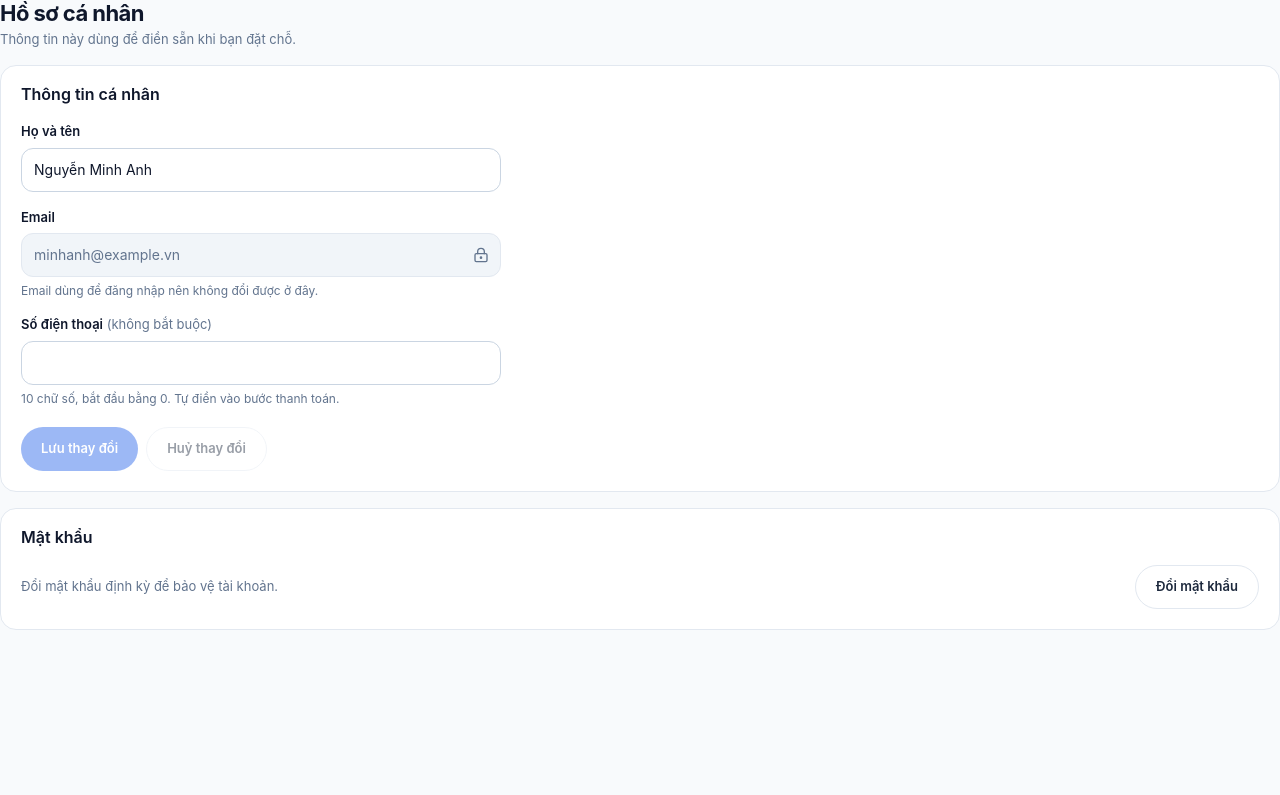
Test: ProfileView — đổi mật khẩu › thành công: gọi API, đóng form và báo các thiết bị khác đã đăng xuất
Click the button "Đổi mật khẩu".
click(1197, 586)  # box x1=1135 y1=564 x2=1259 y2=608
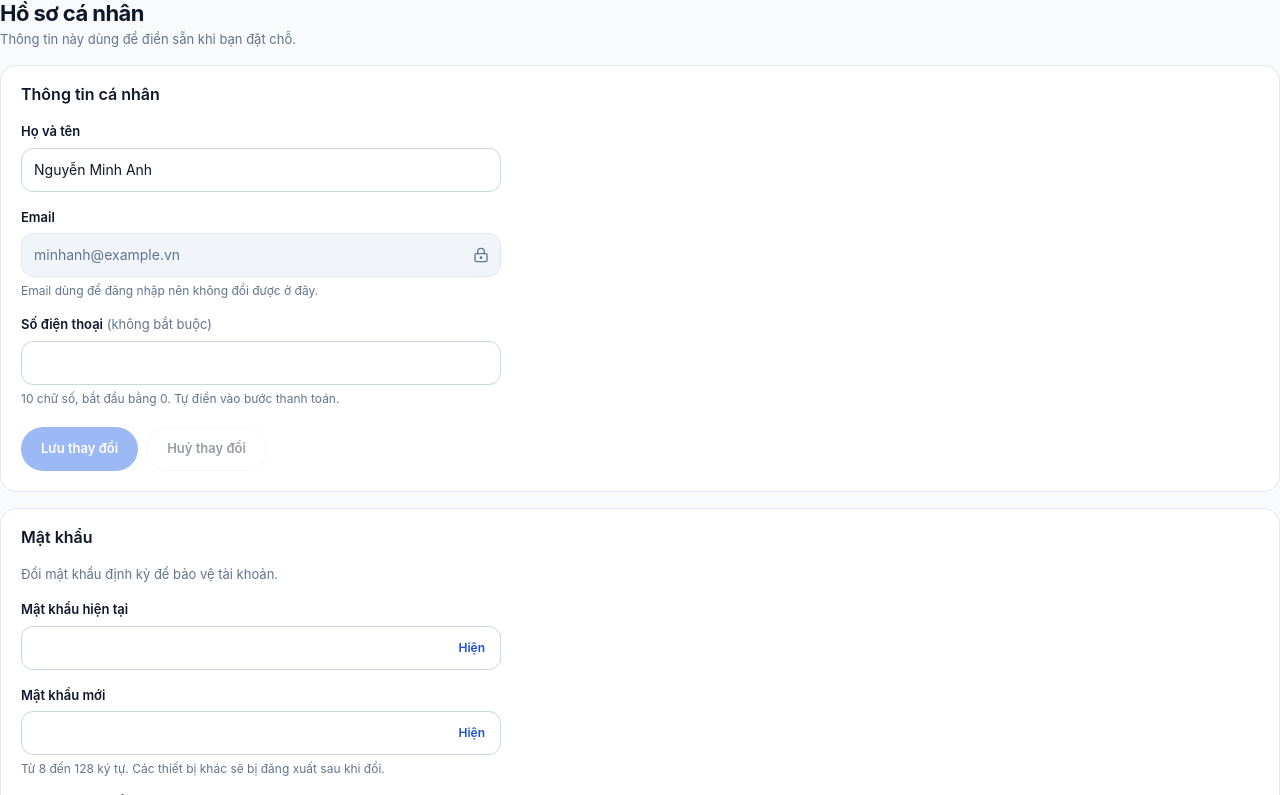
Type "Demo@2026" into the password field labelled "Mật khẩu hiện tại".
click(261, 648); type("Demo@2026")  # box x1=21 y1=626 x2=501 y2=670
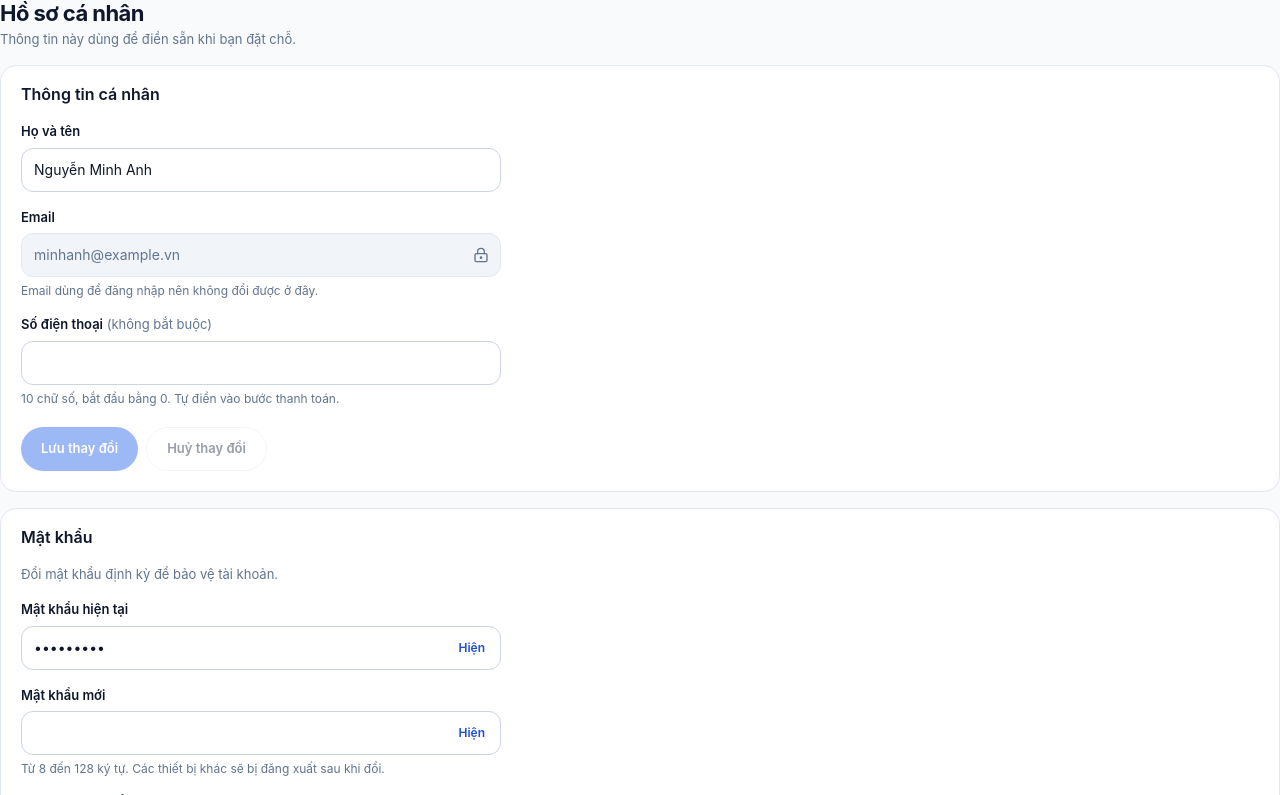
Type "ngua o chay tren de" into the password field labelled "Mật khẩu mới".
click(261, 733); type("ngua o chay tren de")  # box x1=21 y1=711 x2=501 y2=755
(page scrolled)
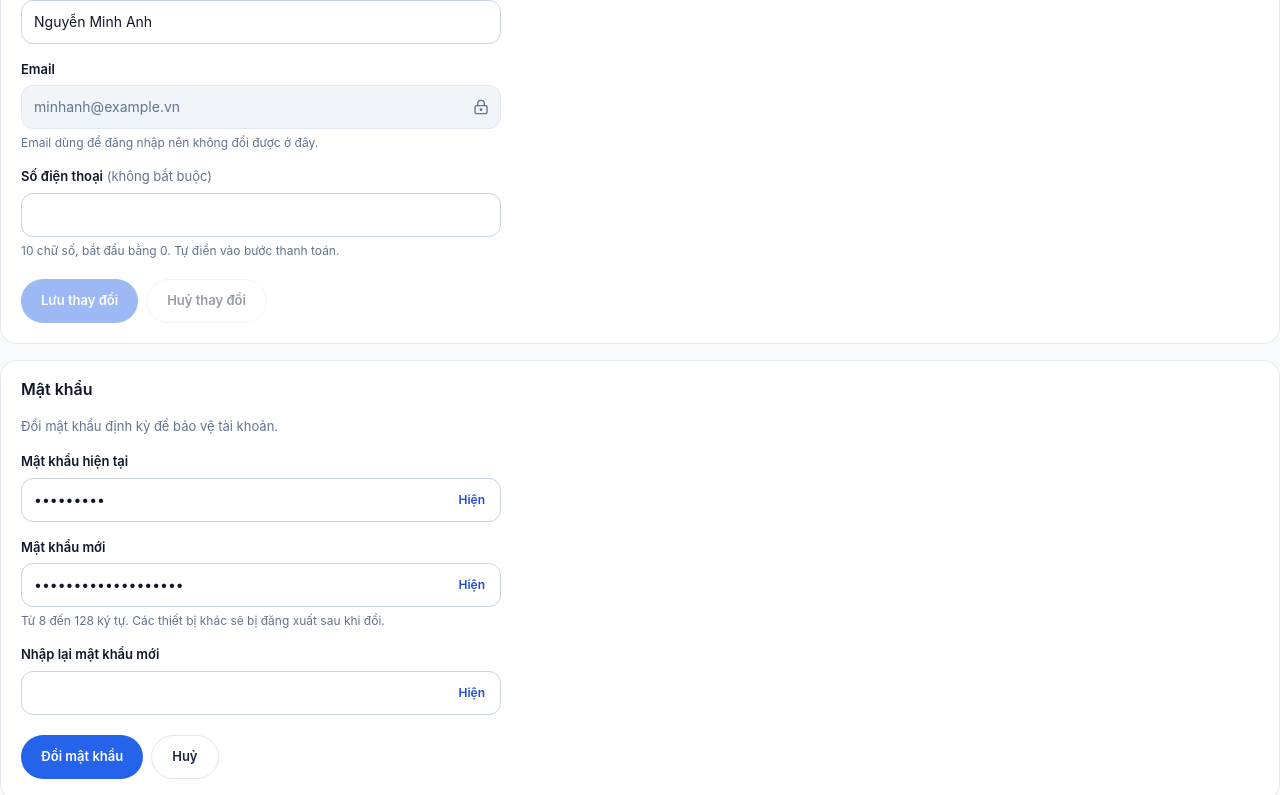
Type "ngua o chay tren de" into the password field labelled "Nhập lại mật khẩu mới".
click(261, 692); type("ngua o chay tren de")  # box x1=21 y1=670 x2=501 y2=714
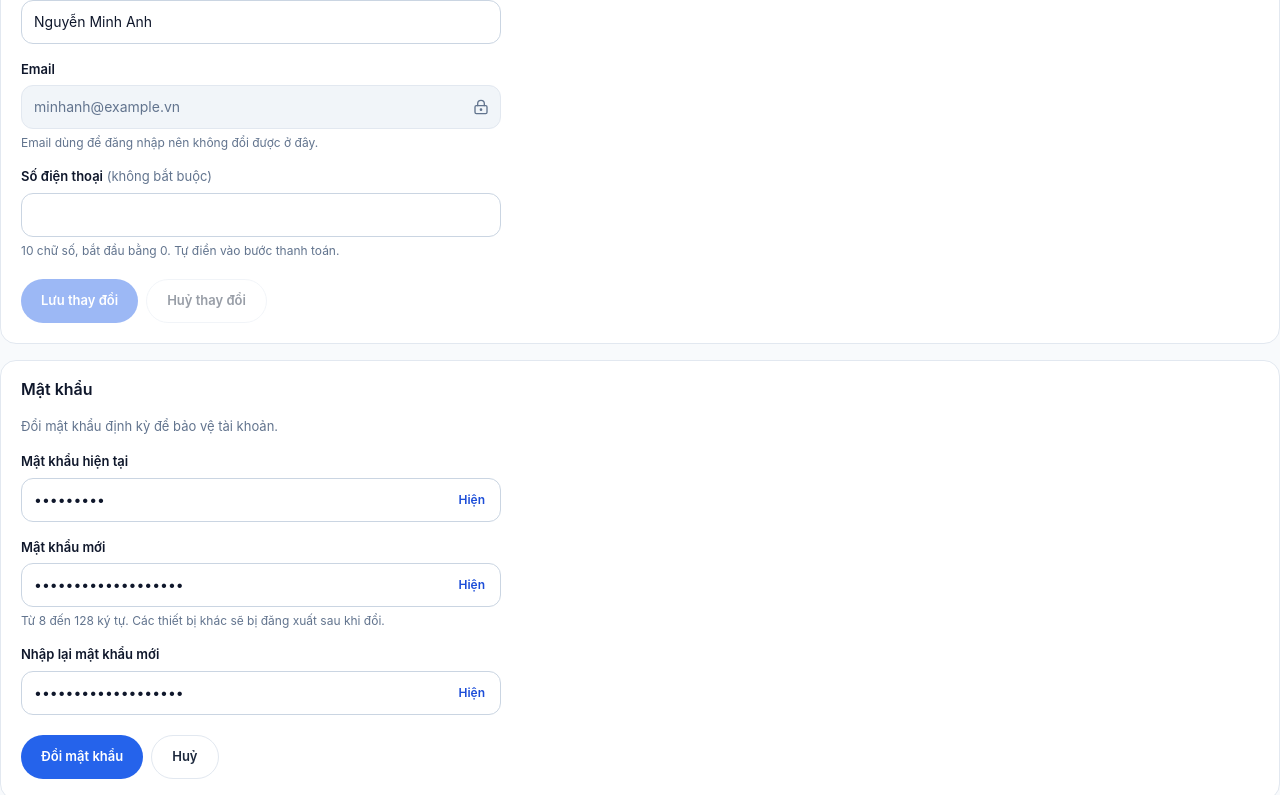
Click the button "Đổi mật khẩu".
click(82, 756)  # box x1=21 y1=734 x2=143 y2=778
(page scrolled)
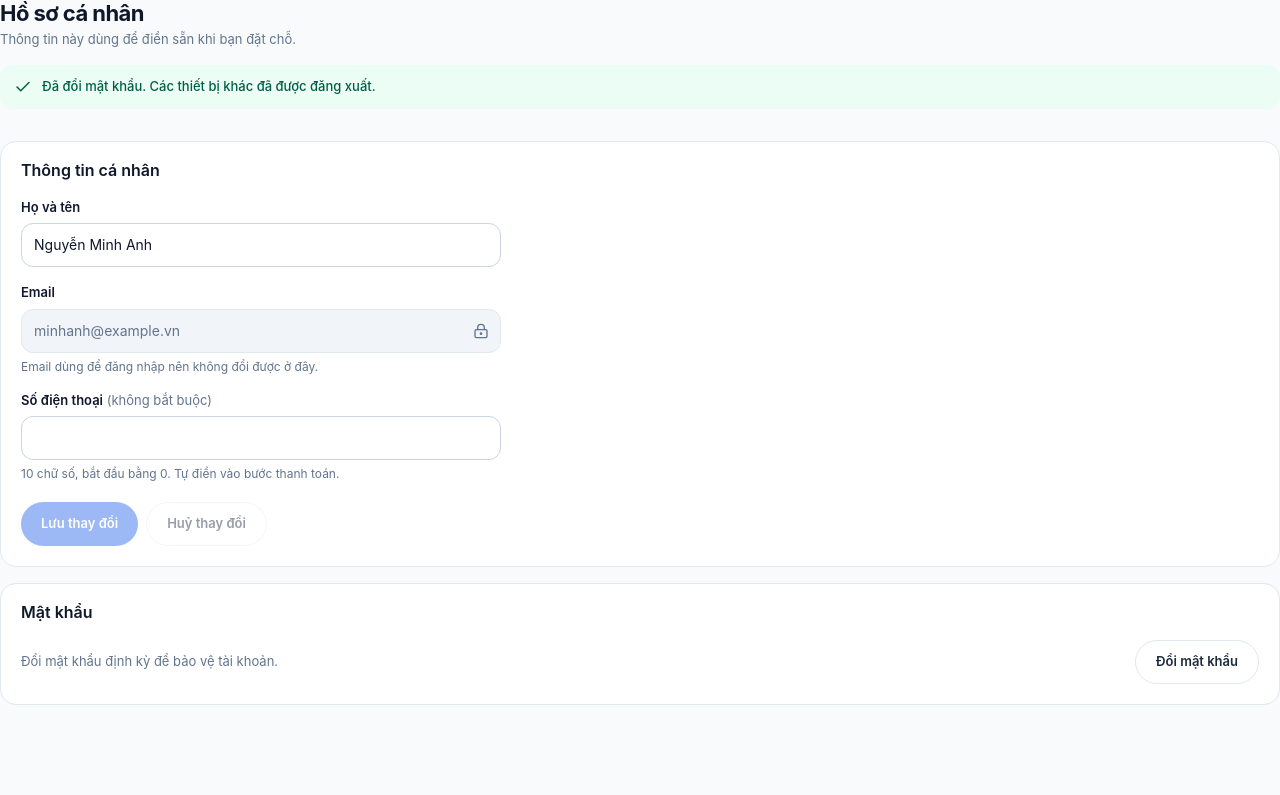
Check: the text "Đã đổi mật khẩu. Các thiết bị khác đã được đăng xuất." is shown, box x1=42 y1=77 x2=376 y2=96
Check: the label labelled "Mật khẩu hiện tại" is gone
